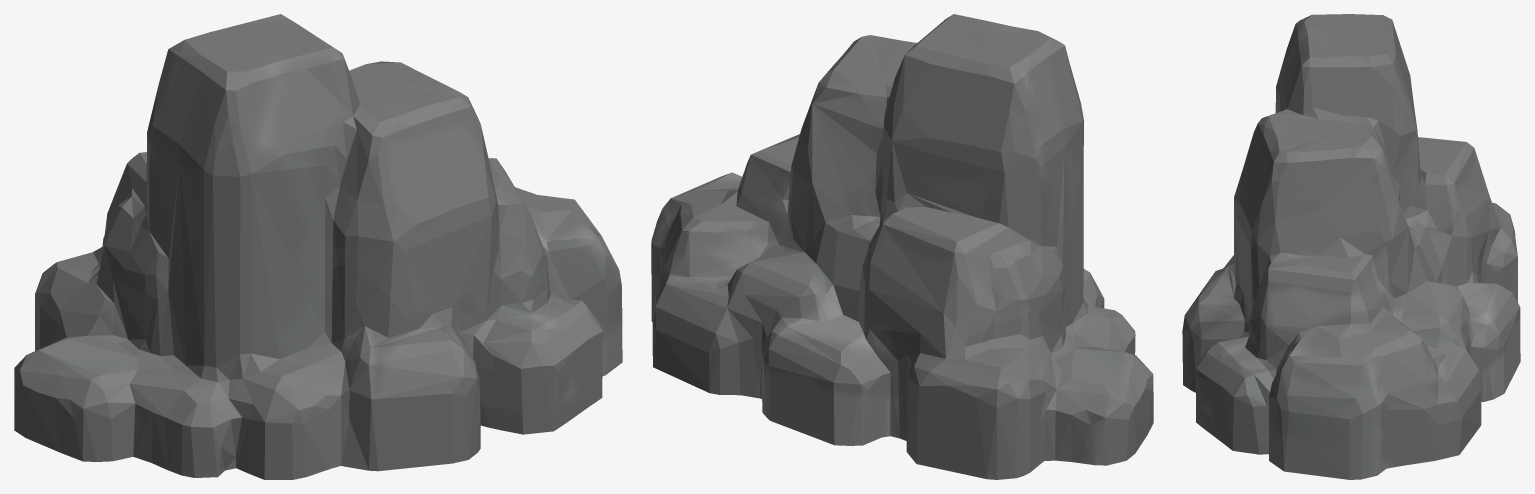
The model's file is rock.glb.
The picture shows the model from 3 angles, left to right: view 1: azimuth 30°, elevation 25°; view 2: azimuth 150°, elevation 25°; view 3: azimuth 270°, elevation 25°; orthographic projection. The views are drawn at different scales.
Visible parts, largest first — view 1: Rock_1_; view 2: Rock_1_; view 3: Rock_1_.
Part boxes in pixels (left/top/right/bottom): Rock_1_: left=14, top=14, right=622, bottom=479; Rock_1_: left=651, top=14, right=1153, bottom=479; Rock_1_: left=1182, top=14, right=1520, bottom=479.
Size of the model in its own units: 2.51 by 1.62 by 1.63.
Materials: 1 (1 with a texture image).
